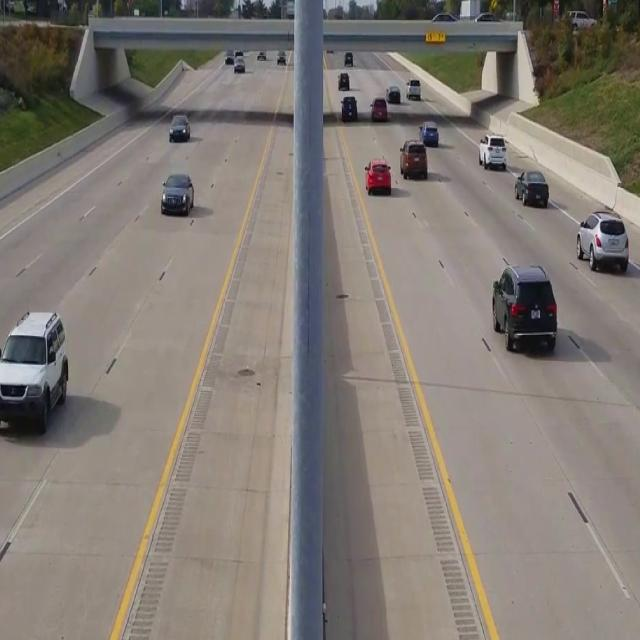car: (0, 308, 69, 434), (492, 264, 558, 352), (576, 209, 628, 274), (160, 172, 194, 215), (515, 168, 549, 207), (399, 140, 427, 180), (364, 158, 392, 194), (168, 113, 190, 142), (569, 10, 596, 31), (419, 120, 438, 146)
